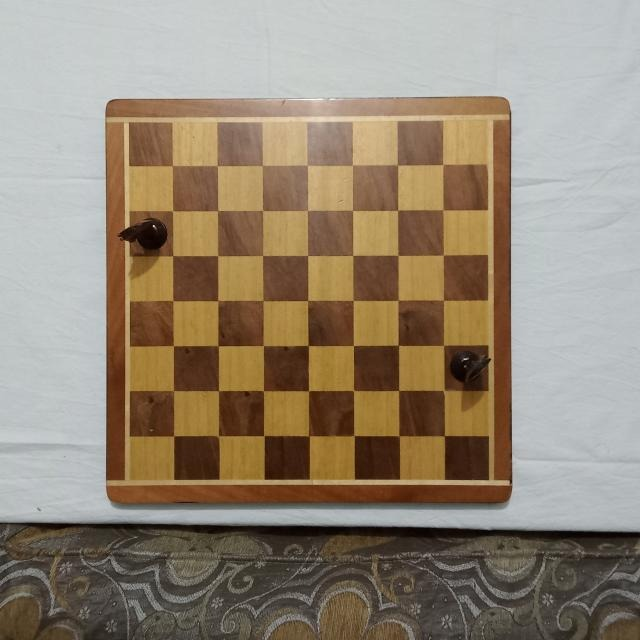black-knight: (114, 216, 170, 251), (450, 349, 494, 387)
